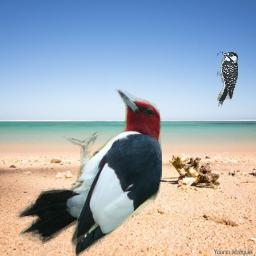Woodpecker: (16, 89, 162, 256), (217, 51, 238, 107)
